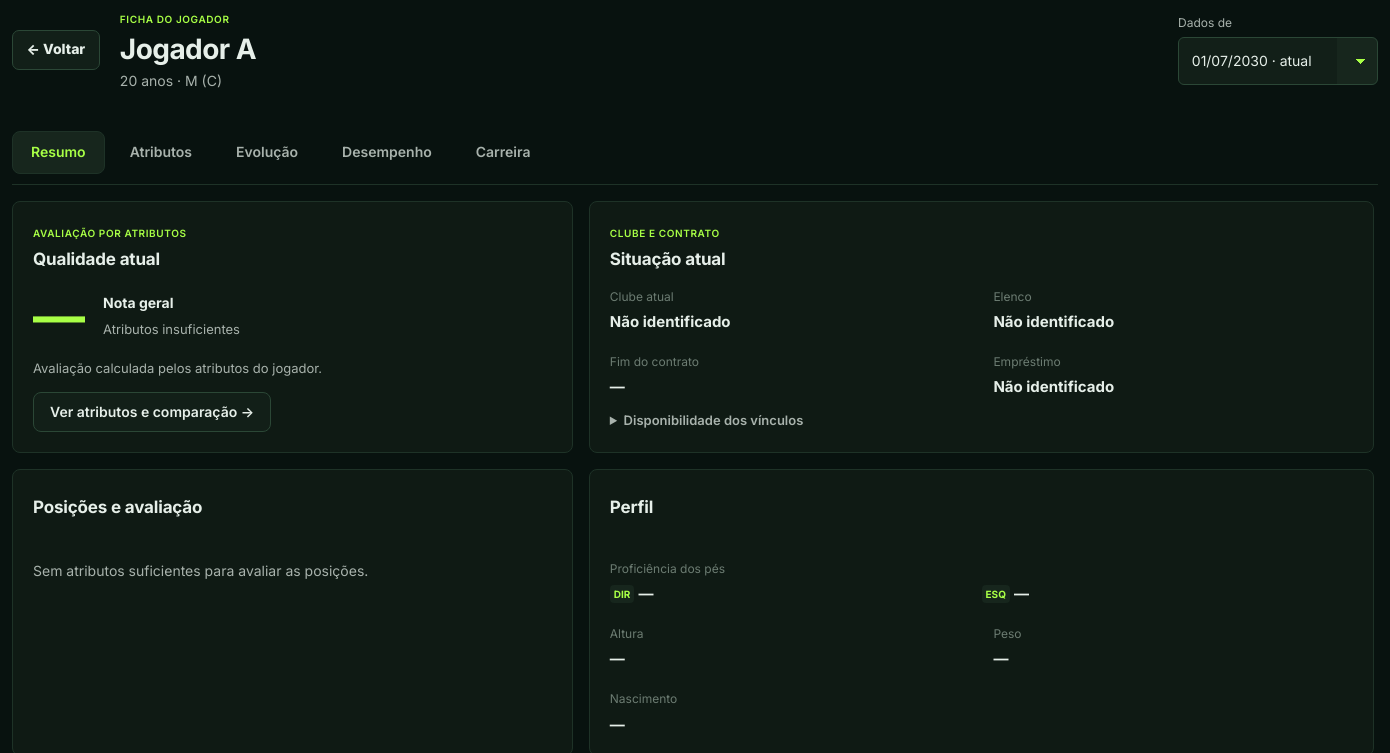
Test case: PlayerPage focused profile › abre resumo, mantém atributos em sua seção e permite voltar à data atual
The width and height of the screenshot is (1390, 753).
Expected: the heading "Qualidade atual" is shown, [33,249,160,269]
Expected: the field labelled "Comparar com" is not shown
Click the button "Atributos" at [161, 152], box [111,131,211,174]
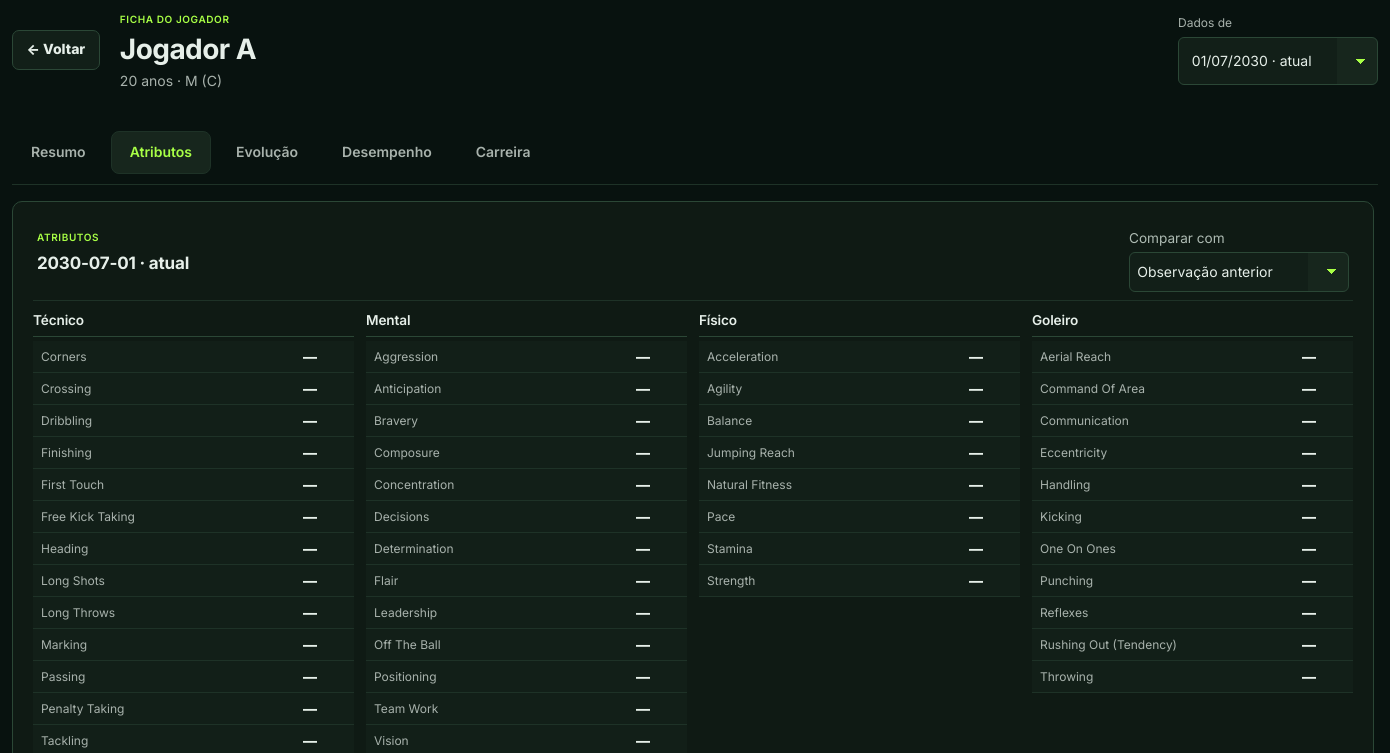
Result: the dropdown labelled "Comparar com" is shown at [1129,252,1349,292]
Select "01/07/2029" in the dropdown named "Data da observação" at [1278, 61], box [1178,37,1378,85]
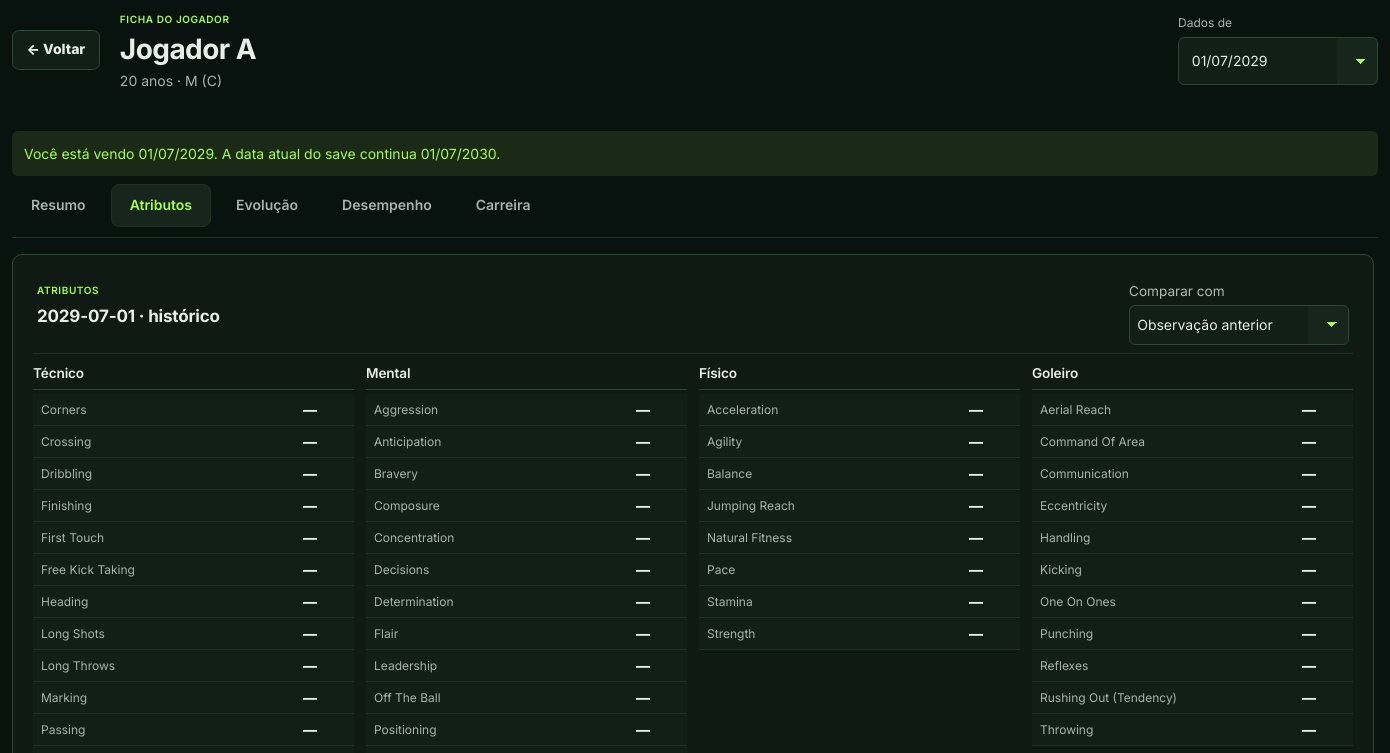
Result: the text "Você está vendo" shows "2029" at [138,145,214,162]
Select "Atual · 01/07/2030" in the dropdown named "Data da observação" at [1278, 61], box [1178,37,1378,85]
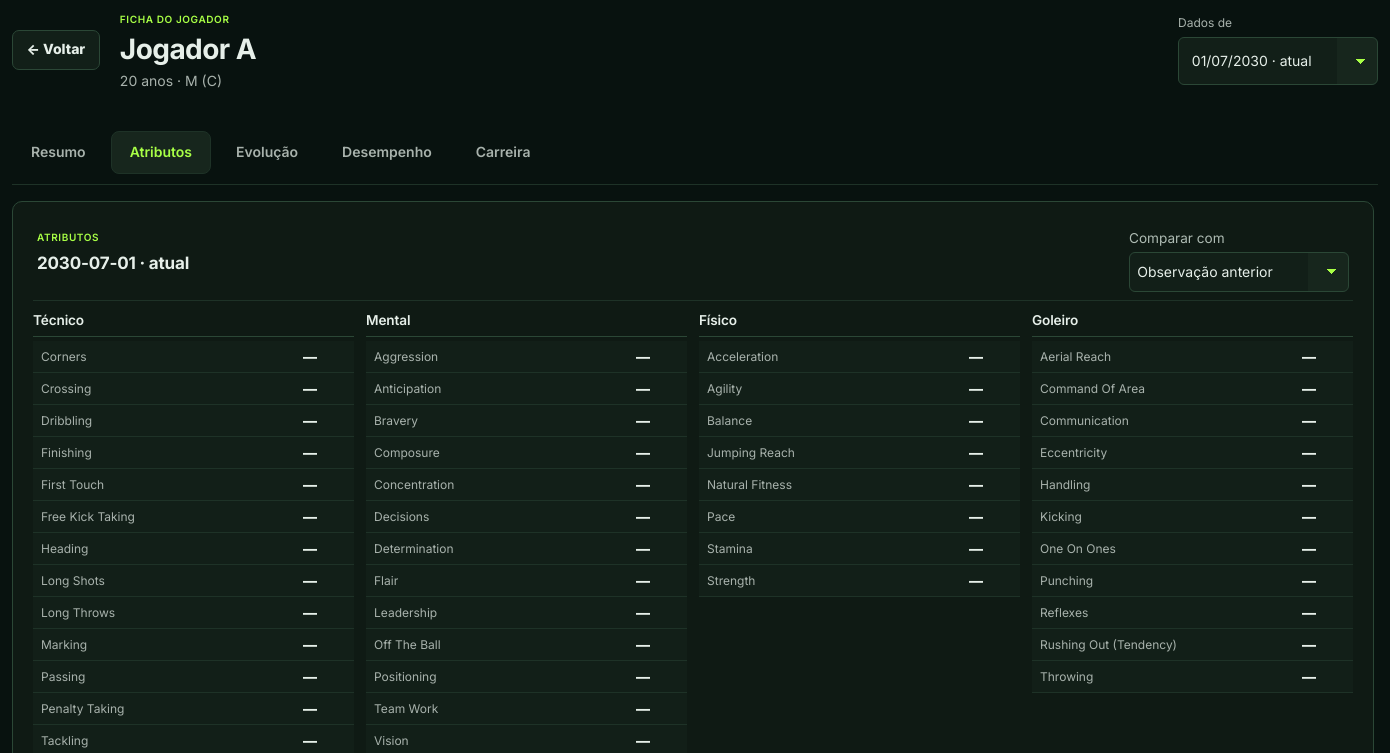
Result: the text "Você está vendo" is gone
Click the button "Resumo" at [58, 152], box [12,131,105,174]
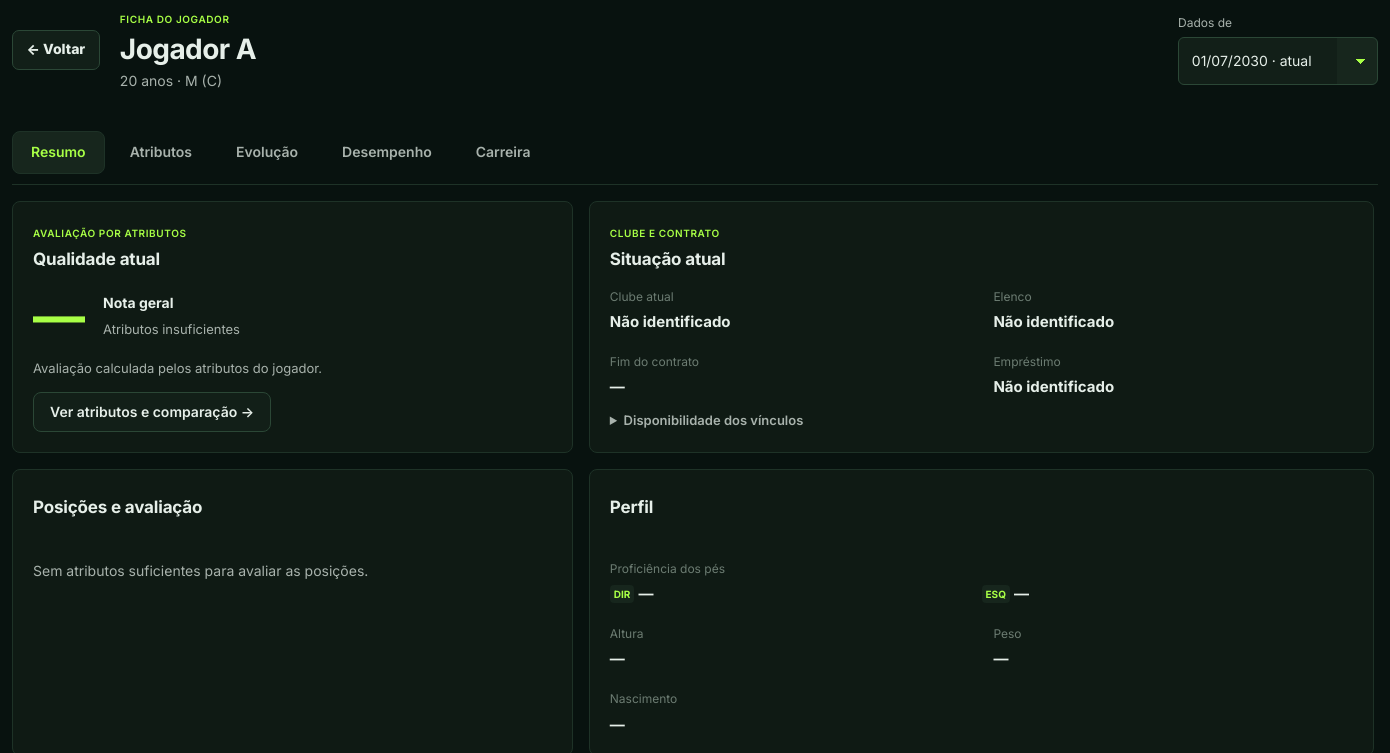
Result: the heading "Qualidade atual" is shown at [33,249,160,269]
